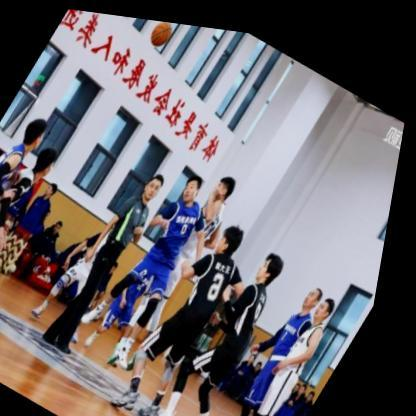basketball: (145, 16, 176, 45)
